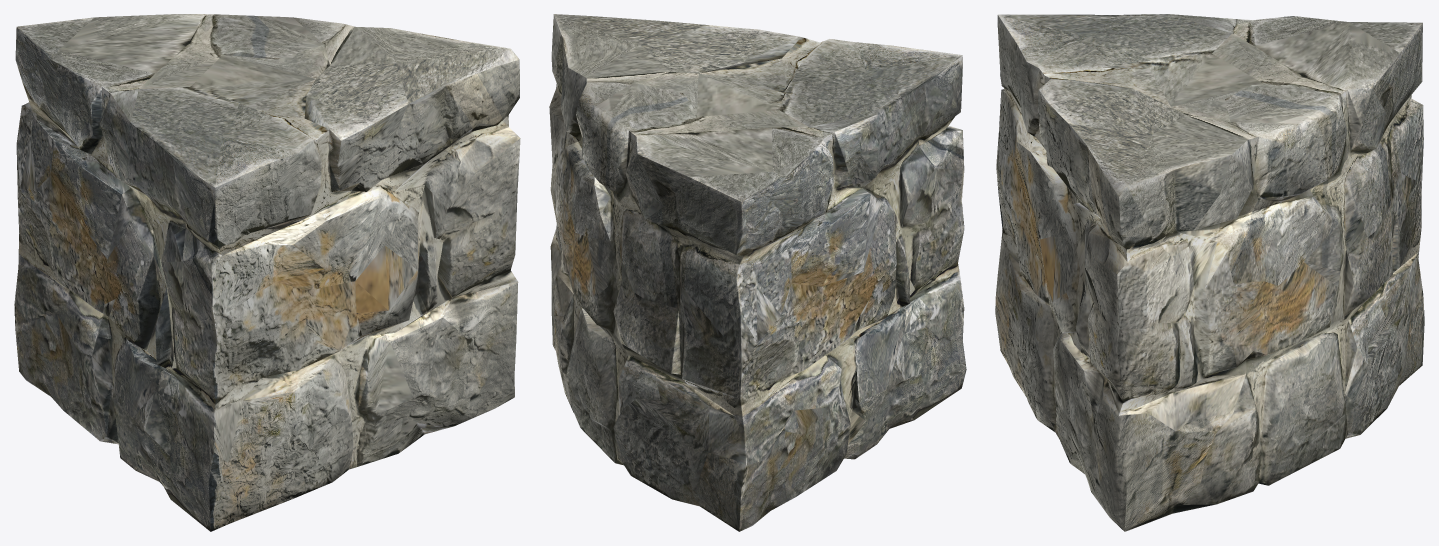
File: StoneHalf2.glb
3 views of the same model, side by side, from view 1: azimuth 30°, elevation 25°; view 2: azimuth 150°, elevation 25°; view 3: azimuth 270°, elevation 25° (orthographic). The views are drawn at different scales.
Parts seen in each view (by area): view 1: StoneHalf2; view 2: StoneHalf2; view 3: StoneHalf2.
Part boxes in pixels (x1,y1,x2,y2): StoneHalf2: (14,14,520,531); StoneHalf2: (549,14,966,531); StoneHalf2: (995,14,1424,531).
Bounding box in the file's own units: 0.4948 × 0.4493 × 0.5.
1 material, 1 textured.
